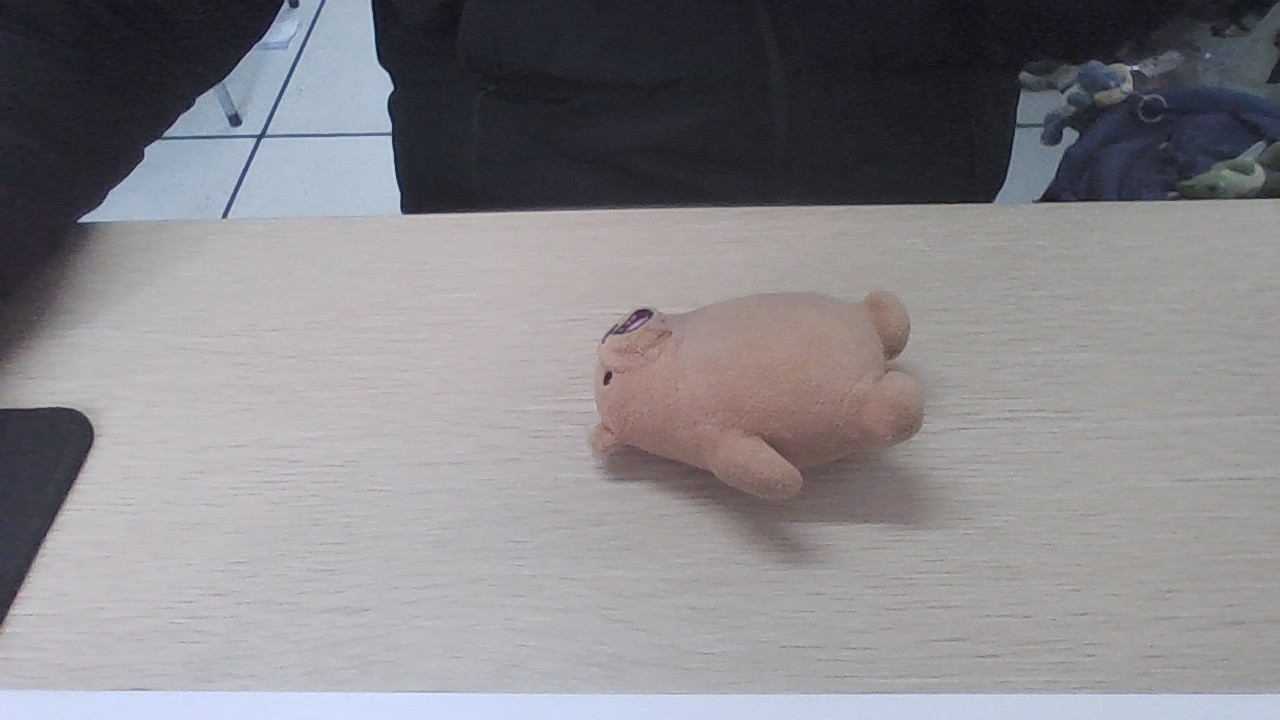KHS-doll: (580, 288, 908, 497)
